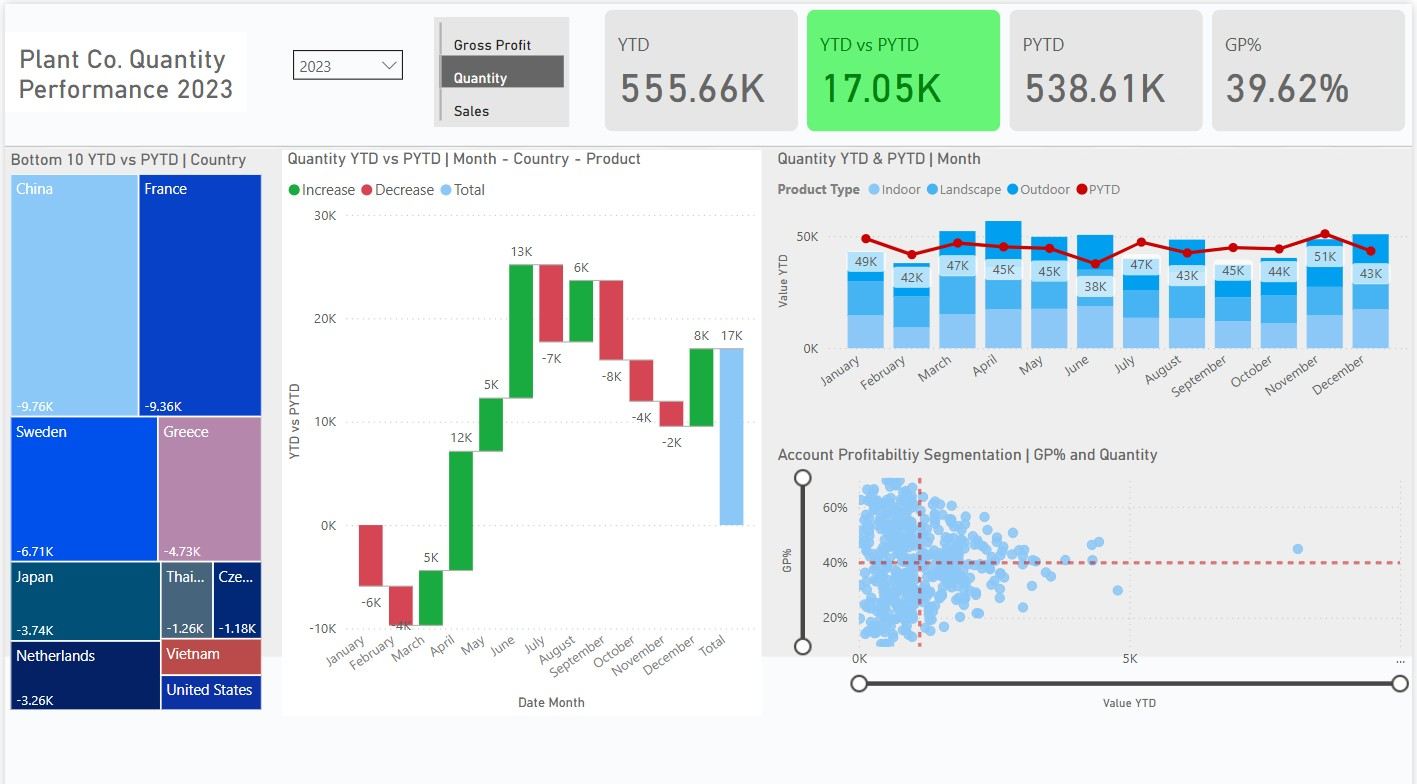

What the dashboard file says about the page in this screenshot:
{"tool":"powerbi","page":{"name":"Performance Report","canvas":[1280,720],"ordinal":0},"visuals":[{"type":"cardVisual","fields":{"Data":["_Measures.S_YTD","_Measures.YTD vs PYTD","_Measures.S_PYTD","_Measures.GP%"]},"box":[540,0,740,121.7],"z":0},{"type":"advancedSlicerVisual","fields":{"Values":["Slc_Values.Values"]},"box":[390,11.7,123.3,100],"z":1000},{"type":"slicer","fields":{"Values":["Dim_Date.Date.Variation.Date Hierarchy.Year"]},"box":[251.7,31.7,120,60],"z":2000},{"type":"treemap","title":"Bottom 10 YTD vs PYTD | Country","fields":{"Values":["_Measures.YTD vs PYTD"],"Group":["Dim_Account.country"]},"box":[0,133.3,238.3,513.3],"z":3000},{"type":"waterfallChart","fields":{"Y":["_Measures.YTD vs PYTD"],"Category":["Dim_Date.Date.Variation.Date Hierarchy.Month","Dim_Account.country","DIm_Product.Produt_Type","DIm_Product.Product_Name"]},"box":[251.4,132.9,435.7,514.3],"z":4000},{"type":"lineStackedColumnComboChart","fields":{"Y":["_Measures.S_YTD"],"Y2":["_Measures.S_PYTD"],"Category":["Dim_Date.Date.Variation.Date Hierarchy.Quarter","Dim_Date.Date.Variation.Date Hierarchy.Month"],"Series":["DIm_Product.Produt_Type"]},"box":[697.1,132.9,582.9,257.1],"z":5000},{"type":"scatterChart","fields":{"Y":["_Measures.GP%"],"X":["_Measures.S_YTD"],"Category":["Dim_Account.Account"]},"box":[697.1,401.4,582.9,244.3],"z":5001},{"type":"card","fields":{"Values":["_Measures._Report Title"]},"box":[0,25,220,73.3],"z":5002}]}

Visuals, with their boxes in screenshot pixels (x1, y1, x2, y2), scaled from the page's 1280x720 canvas onto the 1417x784 screenshot:
cardVisual - _Measures.S_YTD x _Measures.YTD vs PYTD: x1=598, y1=0, x2=1416, y2=133
advancedSlicerVisual - Slc_Values.Values: x1=432, y1=13, x2=568, y2=122
slicer - Dim_Date.Date.Variation.Date Hierarchy.Year: x1=279, y1=35, x2=411, y2=100
"Bottom 10 YTD vs PYTD | Country" treemap: x1=0, y1=145, x2=264, y2=704
waterfallChart - _Measures.YTD vs PYTD x Dim_Date.Date.Variation.Date Hierarchy.Month: x1=278, y1=145, x2=761, y2=705
lineStackedColumnComboChart - _Measures.S_YTD x _Measures.S_PYTD: x1=772, y1=145, x2=1416, y2=425
scatterChart - _Measures.GP% x _Measures.S_YTD: x1=772, y1=437, x2=1416, y2=703
card - _Measures._Report Title: x1=0, y1=27, x2=244, y2=107
